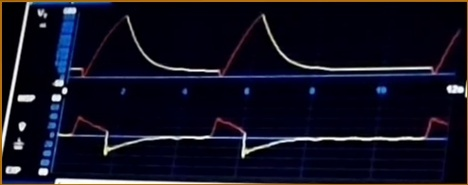Flow: (68, 100, 448, 172)
Leakage Volume: (70, 14, 464, 82)
